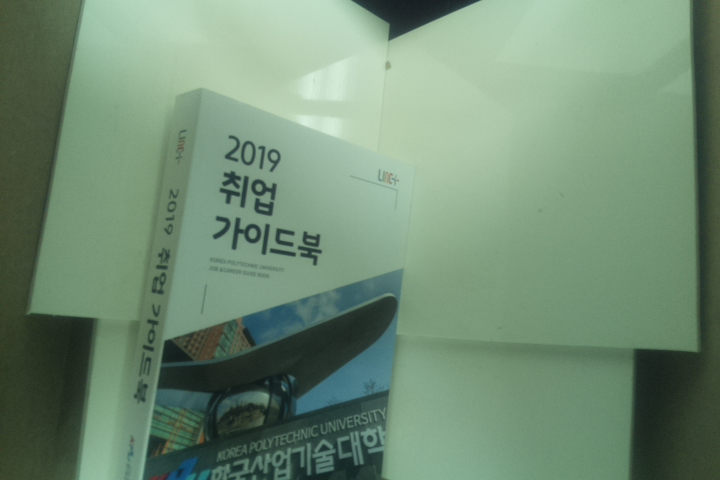book: (113, 87, 420, 480)
